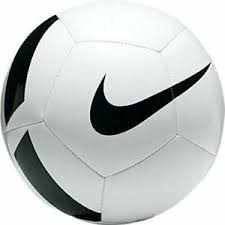nike: (72, 43, 215, 142)
